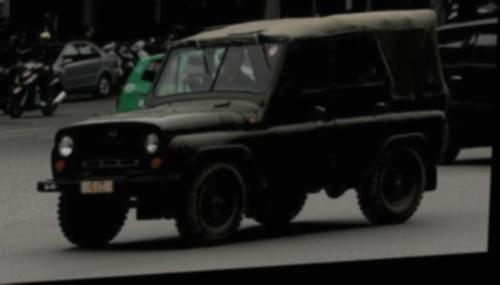License_Plate: (79, 176, 116, 196)
